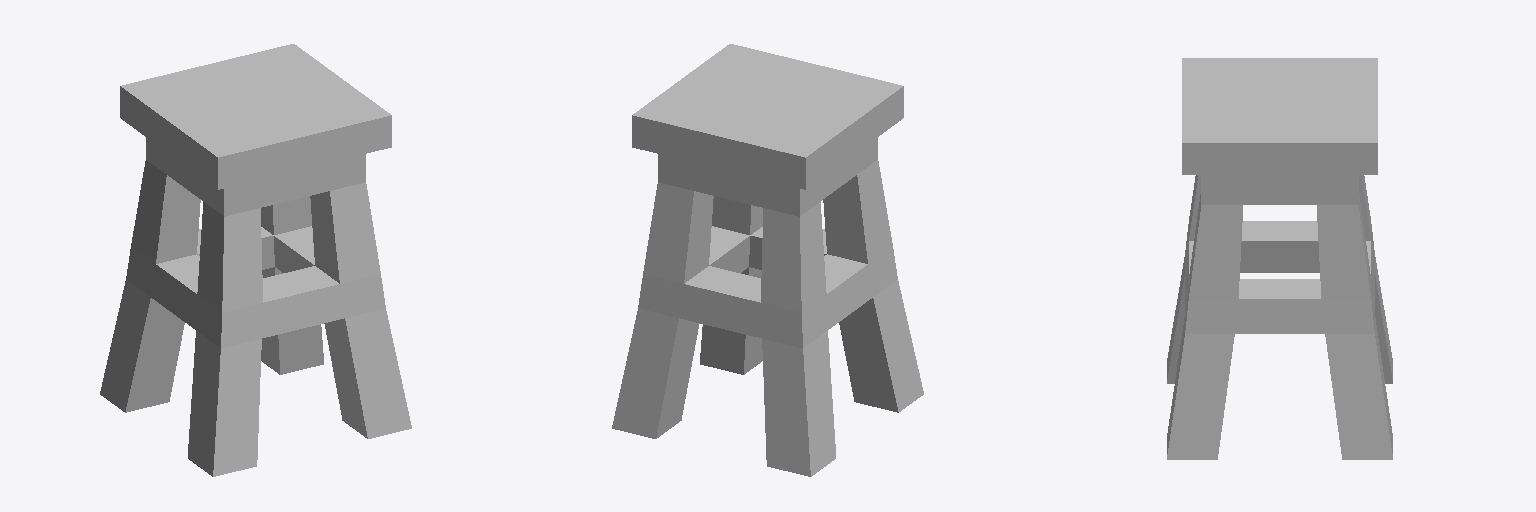
The model's file is Stool.obj.
3 views of the same model, side by side, from view 1: azimuth 30°, elevation 25°; view 2: azimuth 150°, elevation 25°; view 3: azimuth 270°, elevation 25° (orthographic).
Parts seen in each view (by area): view 1: Stool; view 2: Stool; view 3: Stool.
Boxes of the visible parts, box(x1,y1,x2,y2) form: Stool: box(100, 44, 411, 476); Stool: box(612, 44, 923, 476); Stool: box(1167, 58, 1392, 459).
Size of the model in its own units: 0.3663 by 0.5463 by 0.361.